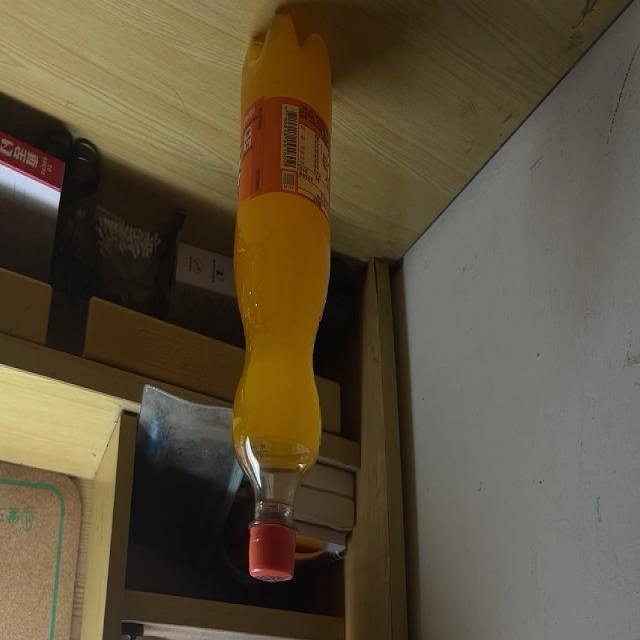Fanta: (232, 11, 331, 585)
